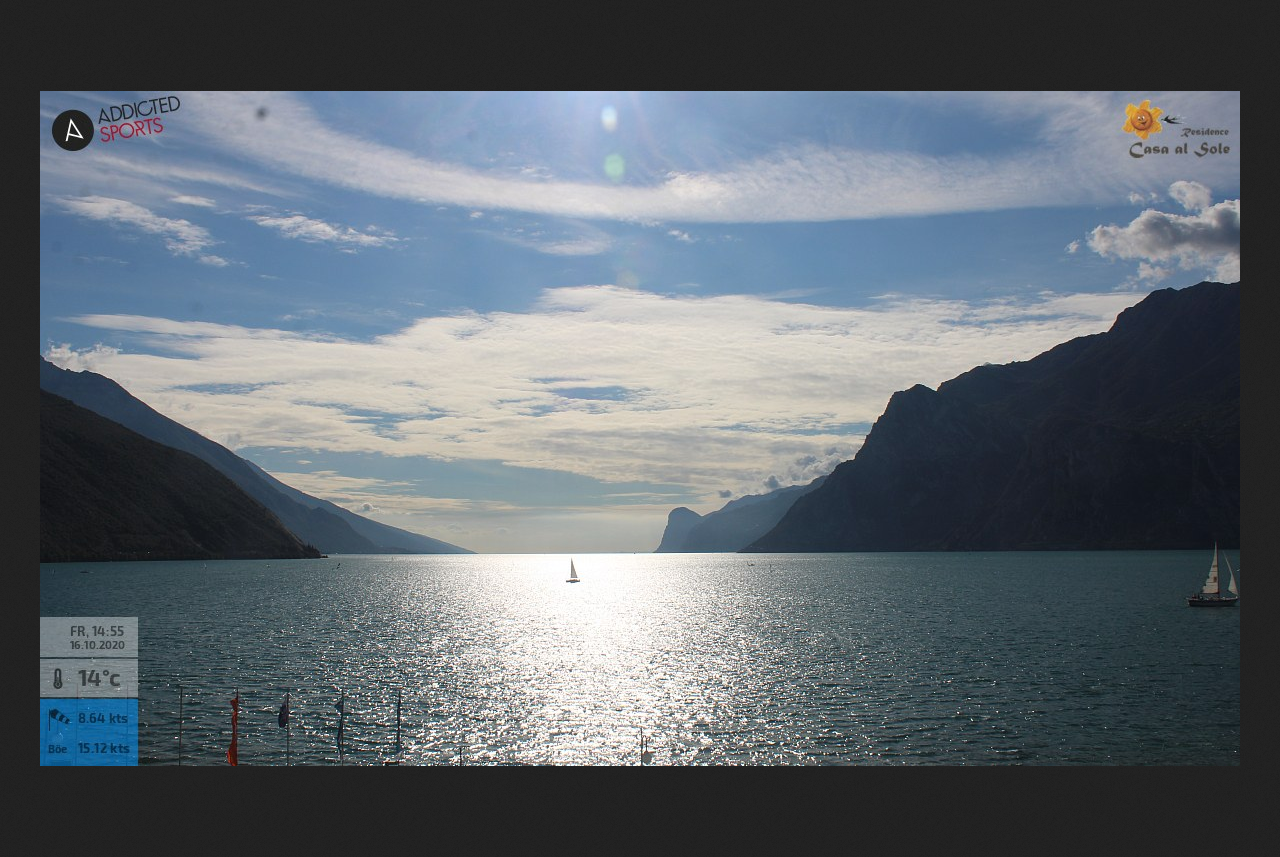no: (330, 692, 354, 763), (275, 692, 293, 728)
